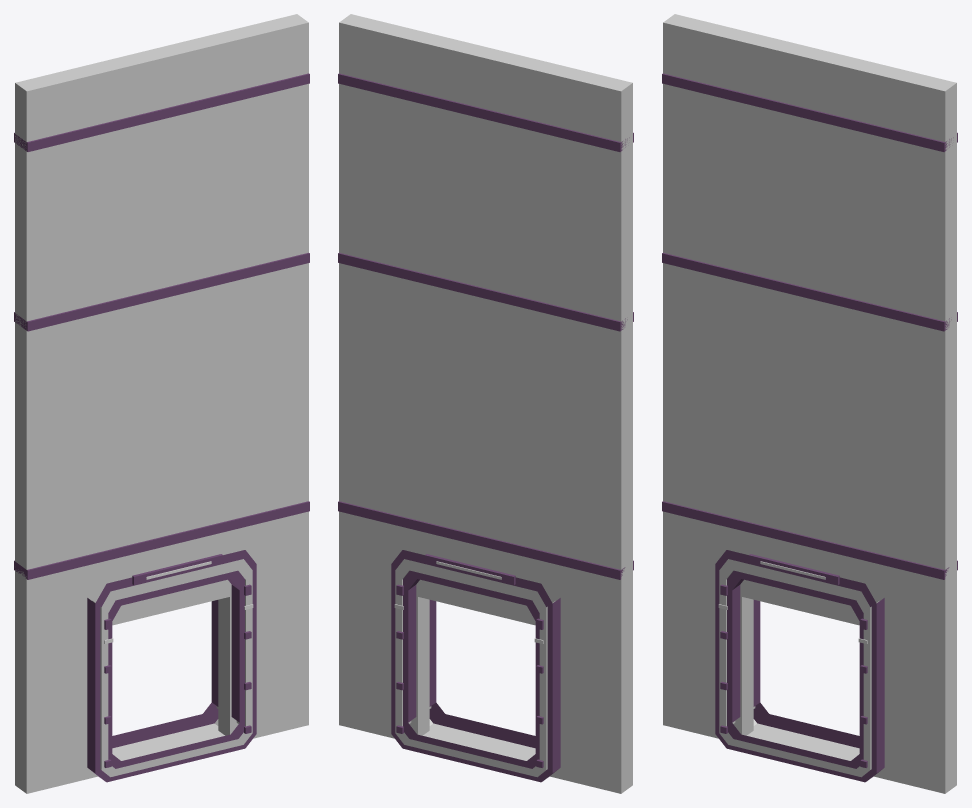
Rendered from env_base99_wall_door_5x12_visual_top3d_v004.glb.
3 views of the same model, side by side, from view 1: azimuth 30°, elevation 25°; view 2: azimuth 150°, elevation 25°; view 3: azimuth 330°, elevation 25° (orthographic).
Parts seen in each view (by area): view 1: wall_door_西墙带门墙体_主体_金属哑光反光; view 2: wall_door_西墙带门墙体_主体_金属哑光反光; view 3: wall_door_西墙带门墙体_主体_金属哑光反光.
Boxes of the visible parts, x1,y1,x2,y2 form: wall_door_西墙带门墙体_主体_金属哑光反光: (14,14,309,793); wall_door_西墙带门墙体_主体_金属哑光反光: (338,14,633,793); wall_door_西墙带门墙体_主体_金属哑光反光: (662,14,957,793).
Size of the model in its own units: 5 by 11.9 by 1.05.
